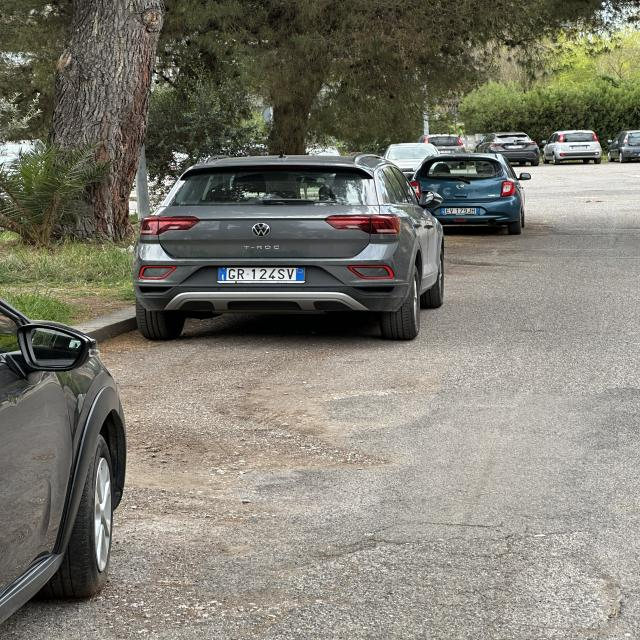number_plate: (218, 267, 304, 283)
